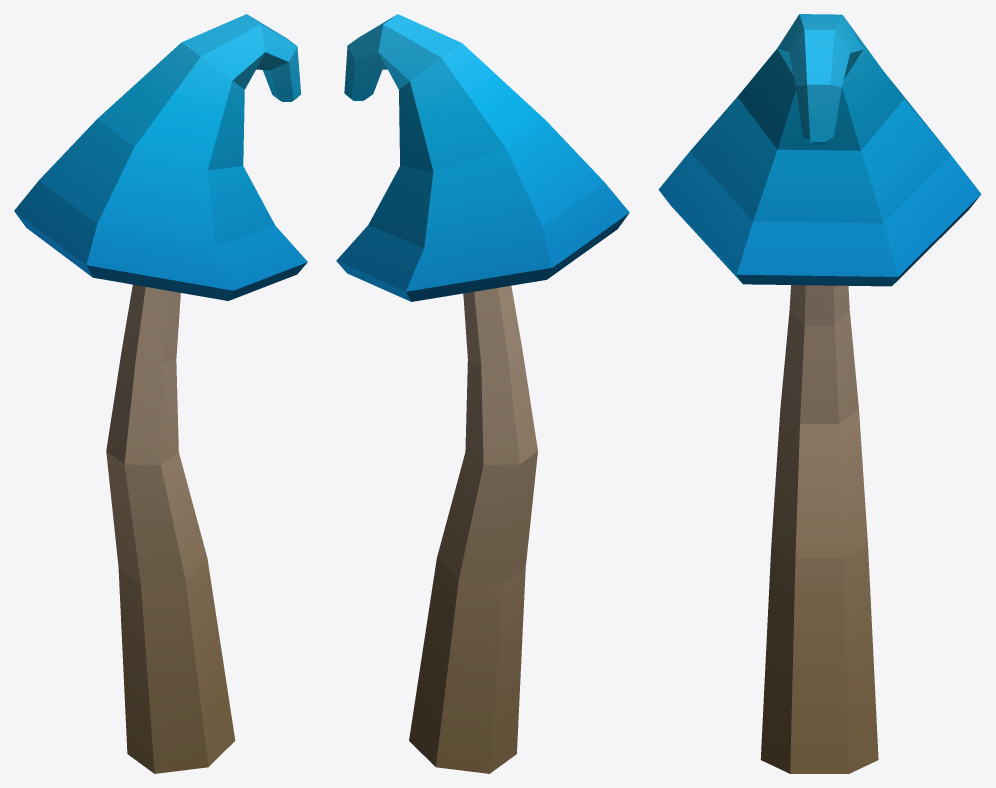
The model's file is Mushroom_Blue_01.fbx.
3 views of the same model, side by side, from view 1: azimuth 30°, elevation 25°; view 2: azimuth 150°, elevation 25°; view 3: azimuth 270°, elevation 25° (orthographic). The views are drawn at different scales.
Parts seen in each view (by area): view 1: Mushroom_Blue_01; view 2: Mushroom_Blue_01; view 3: Mushroom_Blue_01.
Part boxes in pixels (x1,y1,x2,y2): Mushroom_Blue_01: (14,14,307,773); Mushroom_Blue_01: (336,14,629,773); Mushroom_Blue_01: (658,14,981,773).
Bounding box in the file's own units: 17.74 × 49.32 × 18.61.
